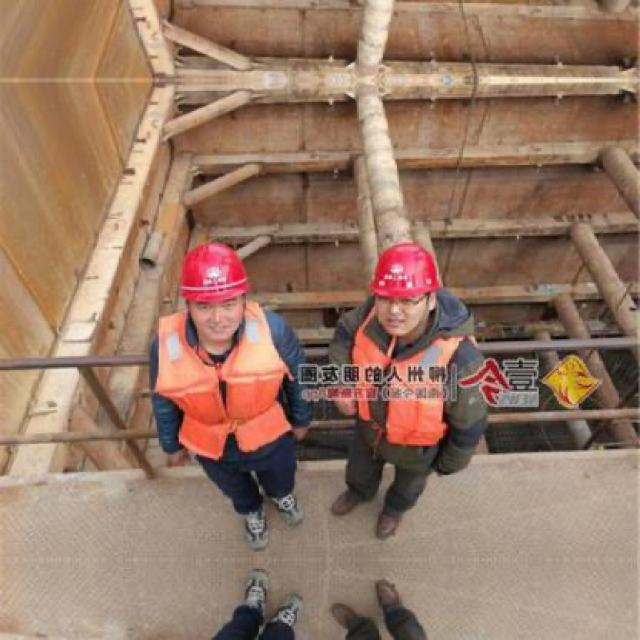con casco: (191, 234, 297, 338), (363, 250, 474, 316)
